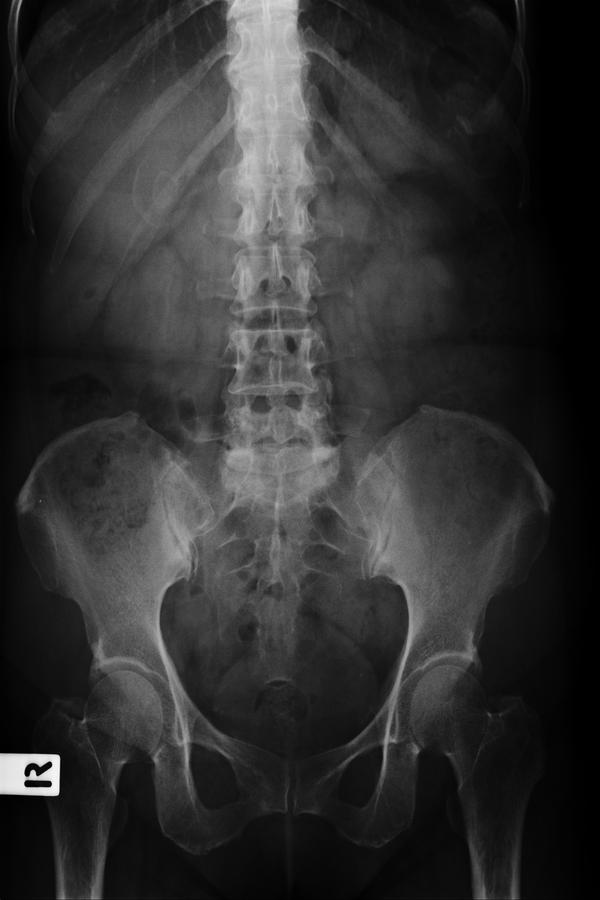lumbar scoliosis: (216, 9, 344, 506)
